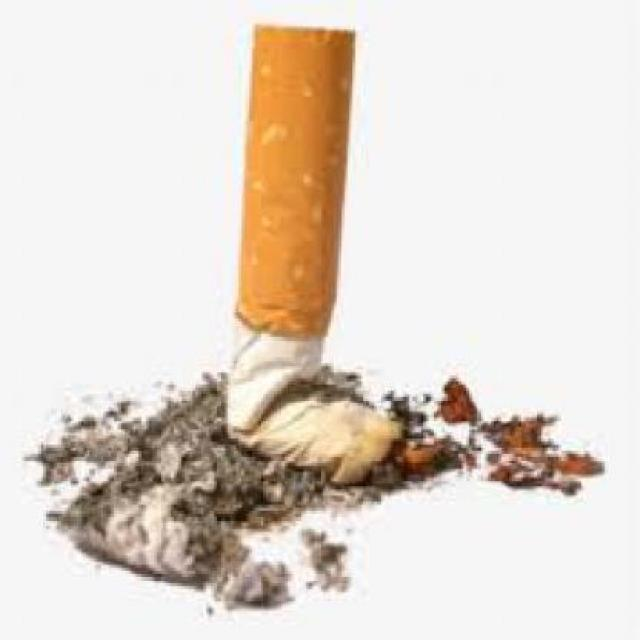cigarette: (228, 15, 406, 514)
